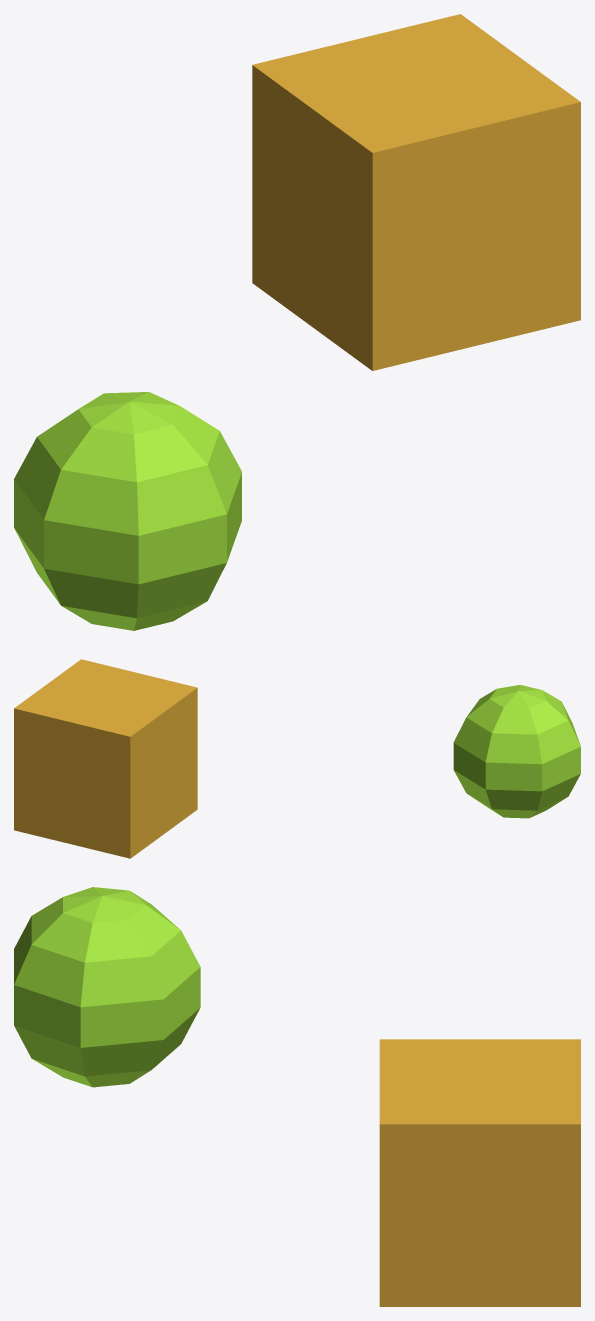
File: directional_scene.gltf
The picture shows the model from 3 angles, top to bottom: view 1: azimuth 30°, elevation 25°; view 2: azimuth 150°, elevation 25°; view 3: azimuth 270°, elevation 25°; orthographic projection. The views are drawn at different scales.
Parts seen in each view (by area): view 1: Cube, Sphere; view 2: Cube, Sphere; view 3: Cube, Sphere.
Part boxes in pixels (x1,y1,x2,y2): Cube: [252, 14, 580, 370]; Sphere: [14, 392, 241, 630]; Cube: [14, 659, 197, 858]; Sphere: [453, 685, 580, 818]; Cube: [379, 1039, 580, 1306]; Sphere: [14, 887, 200, 1087].
Size of what is drawn, in the model's own units: 6.87 by 2.26 by 5.63.
